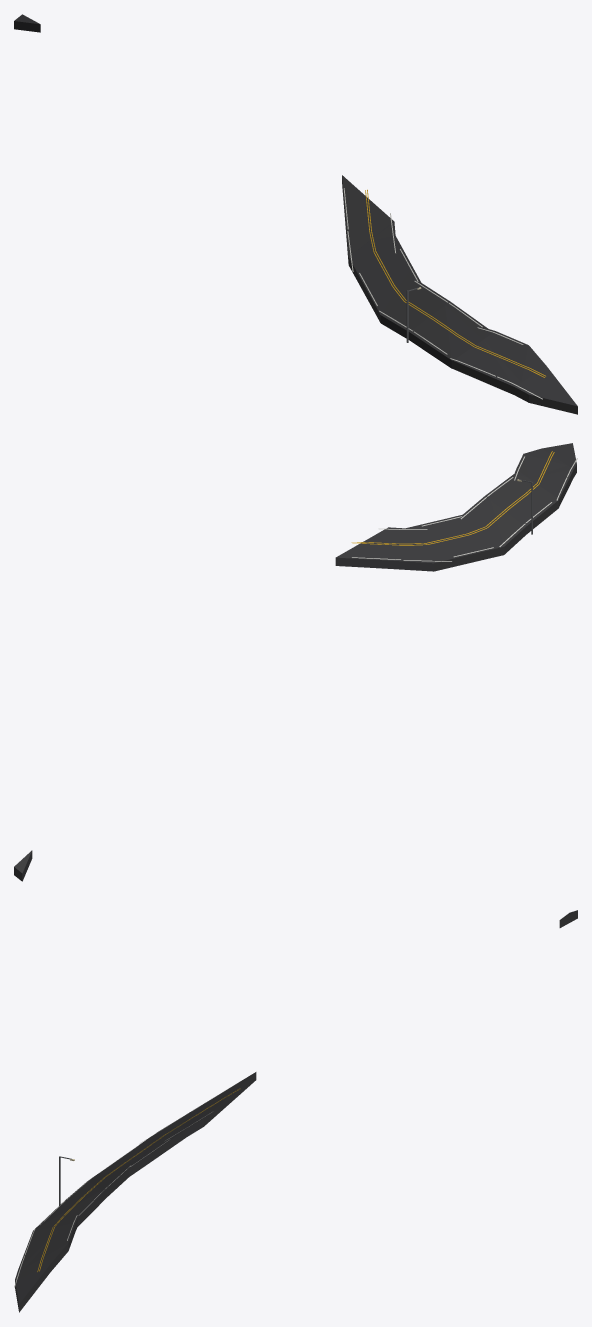
The picture shows the model from 3 angles, top to bottom: view 1: azimuth 30°, elevation 25°; view 2: azimuth 150°, elevation 25°; view 3: azimuth 330°, elevation 25°; orthographic projection.
Size of the model in its own units: 10.68 by 12.5 by 146.
